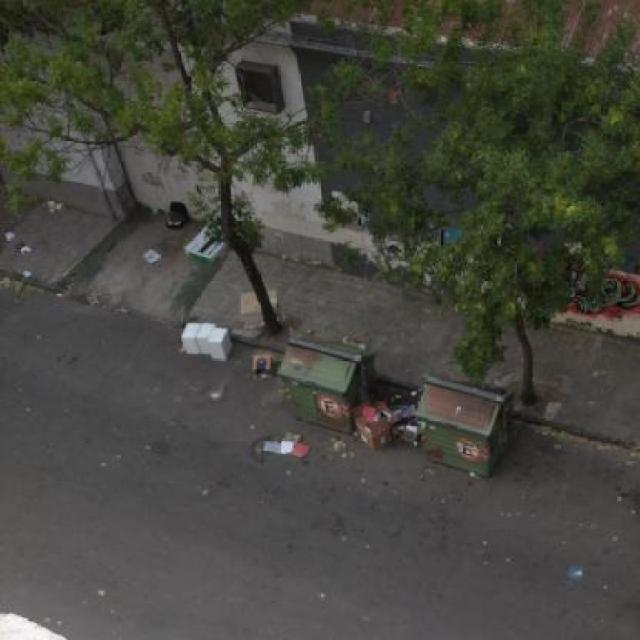garbage: (142, 315, 546, 508)
